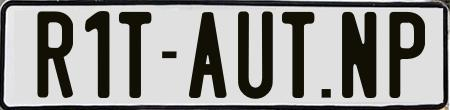1: (85, 8, 116, 98)
A: (189, 11, 233, 97)
N: (341, 11, 376, 100)
P: (388, 12, 425, 101)
R: (34, 10, 73, 102)
T: (281, 10, 317, 97), (118, 12, 151, 104)
U: (237, 10, 278, 103)
